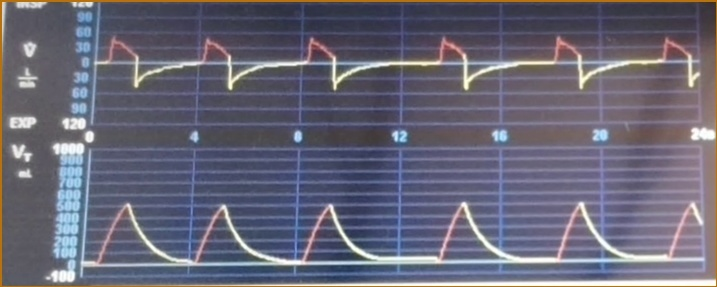Normal Flow: (97, 15, 701, 107)
Normal Volume: (87, 184, 703, 274)
